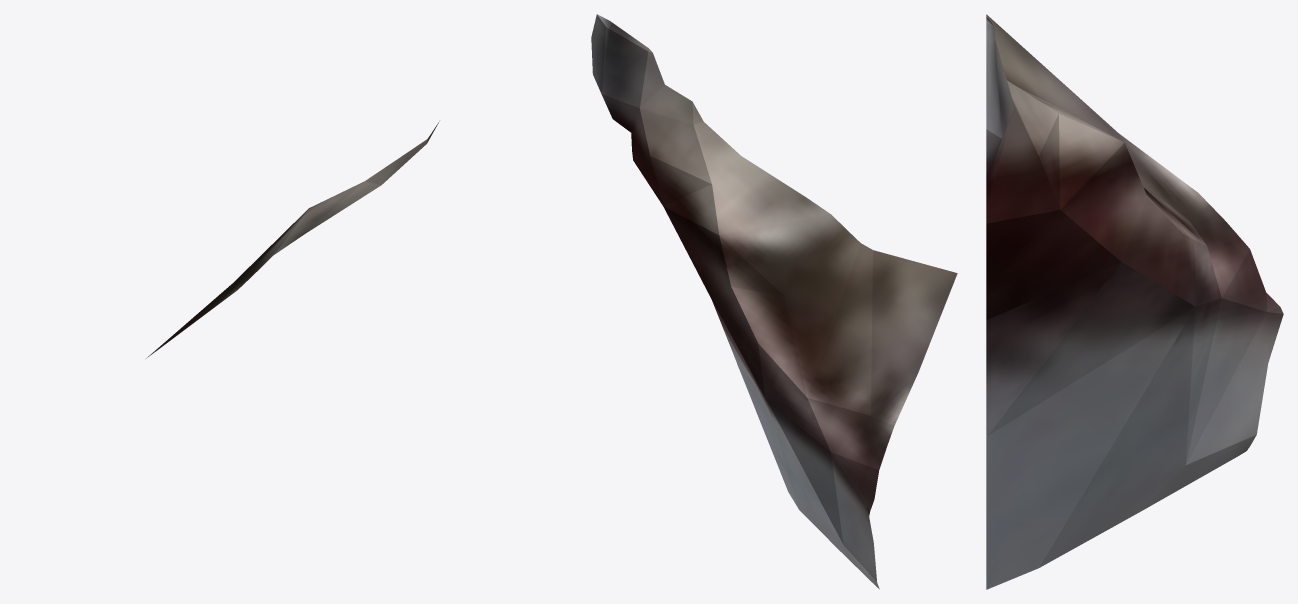
The picture shows the model from 3 angles, left to right: view 1: azimuth 30°, elevation 25°; view 2: azimuth 150°, elevation 25°; view 3: azimuth 270°, elevation 25°; orthographic projection. The views are drawn at different scales.
Bounding box in the file's own units: 0.2109 × 0.2371 × 0.0882.
1 material, 1 textured.
